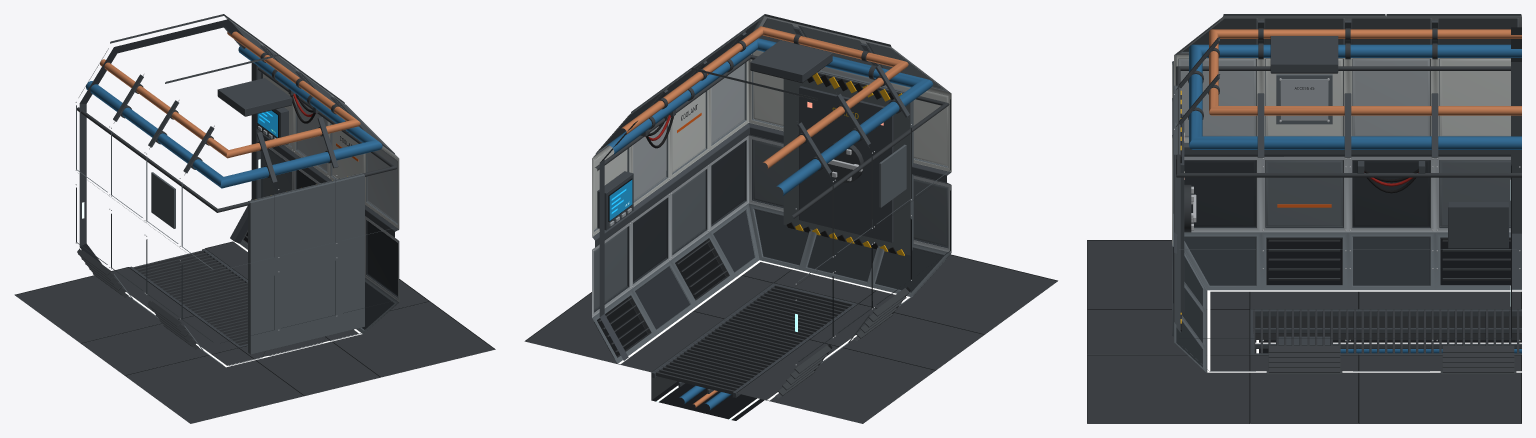
The model's file is corridor_end.glb.
3 views of the same model, side by side, from view 1: azimuth 30°, elevation 25°; view 2: azimuth 150°, elevation 25°; view 3: azimuth 270°, elevation 25° (orthographic). The views are drawn at different scales.
Visible parts, largest first — view 1: corridor_end_body, corridor_end_detail, corridor_end_pipes, corridor_end_decal; view 2: corridor_end_body, corridor_end_detail, corridor_end_pipes, corridor_end_decal; view 3: corridor_end_body, corridor_end_detail, corridor_end_pipes, corridor_end_decal.
Boxes of the visible parts, x1,y1,x2,y2 form: corridor_end_body: [14, 14, 495, 423]; corridor_end_detail: [75, 45, 364, 354]; corridor_end_pipes: [77, 31, 396, 212]; corridor_end_decal: [82, 110, 361, 367]; corridor_end_body: [524, 14, 1057, 423]; corridor_end_detail: [592, 26, 913, 397]; corridor_end_pipes: [595, 26, 949, 410]; corridor_end_decal: [609, 102, 910, 419]; corridor_end_body: [1087, 14, 1521, 423]; corridor_end_detail: [1173, 20, 1521, 372]; corridor_end_pipes: [1176, 29, 1521, 353]; corridor_end_decal: [1184, 87, 1521, 372].
Size of the model in its own units: 4 by 3.2 by 4.
